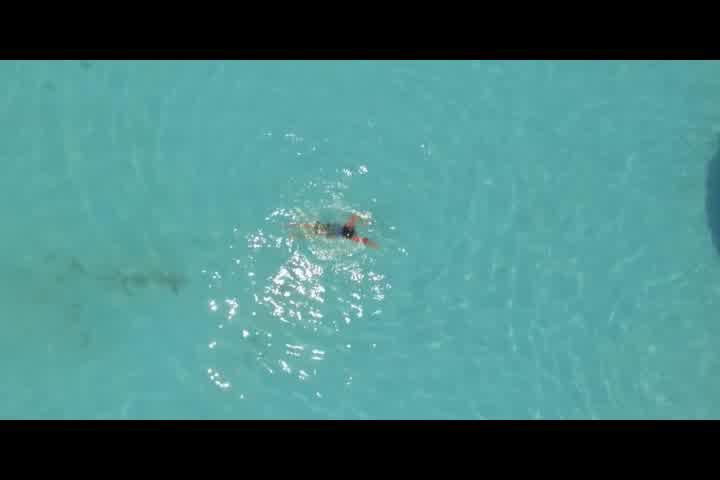swimmer: (298, 208, 376, 249)
